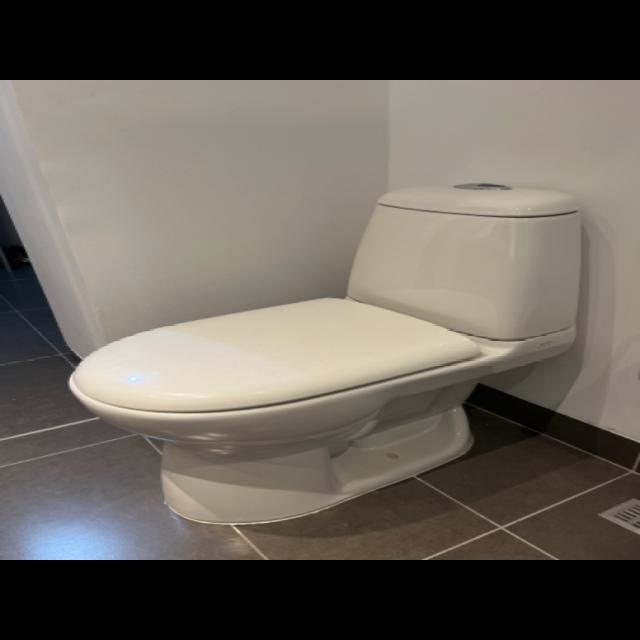toilet: (66, 181, 583, 525)
